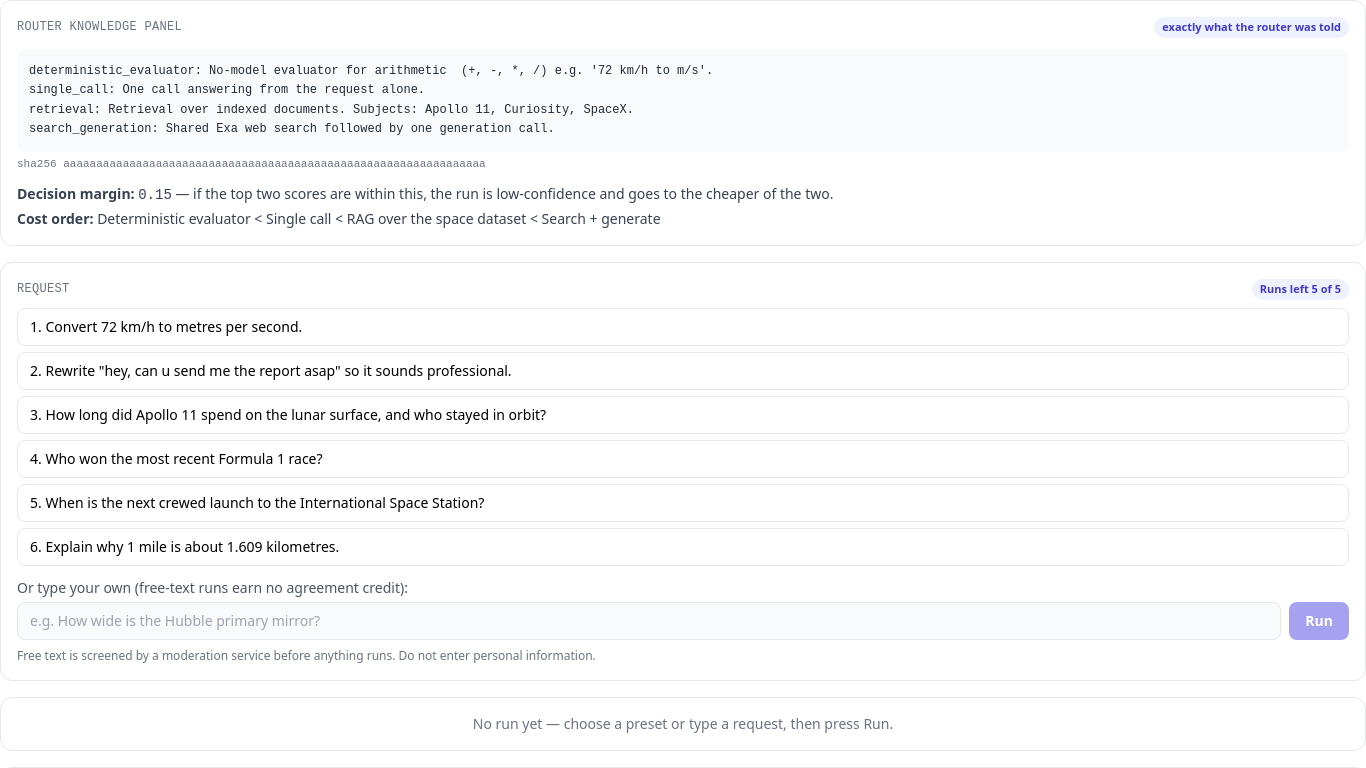
a routed preset run › shows the decision card with all four scores and the agreement
Click the button "next crewed launch": (265, 502) left=17, top=484, right=1349, bottom=522
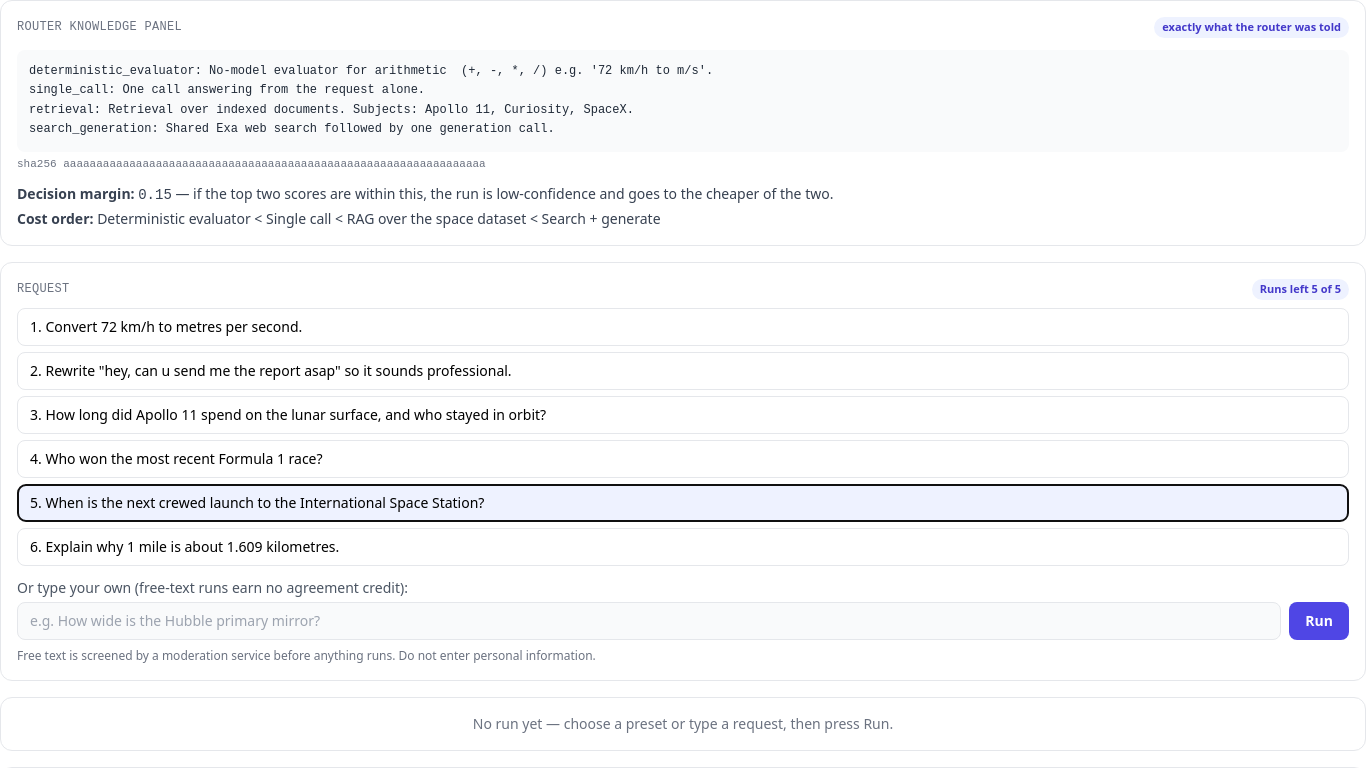
Click the button "Run": (1319, 620) left=1289, top=602, right=1349, bottom=640
(page scrolled)
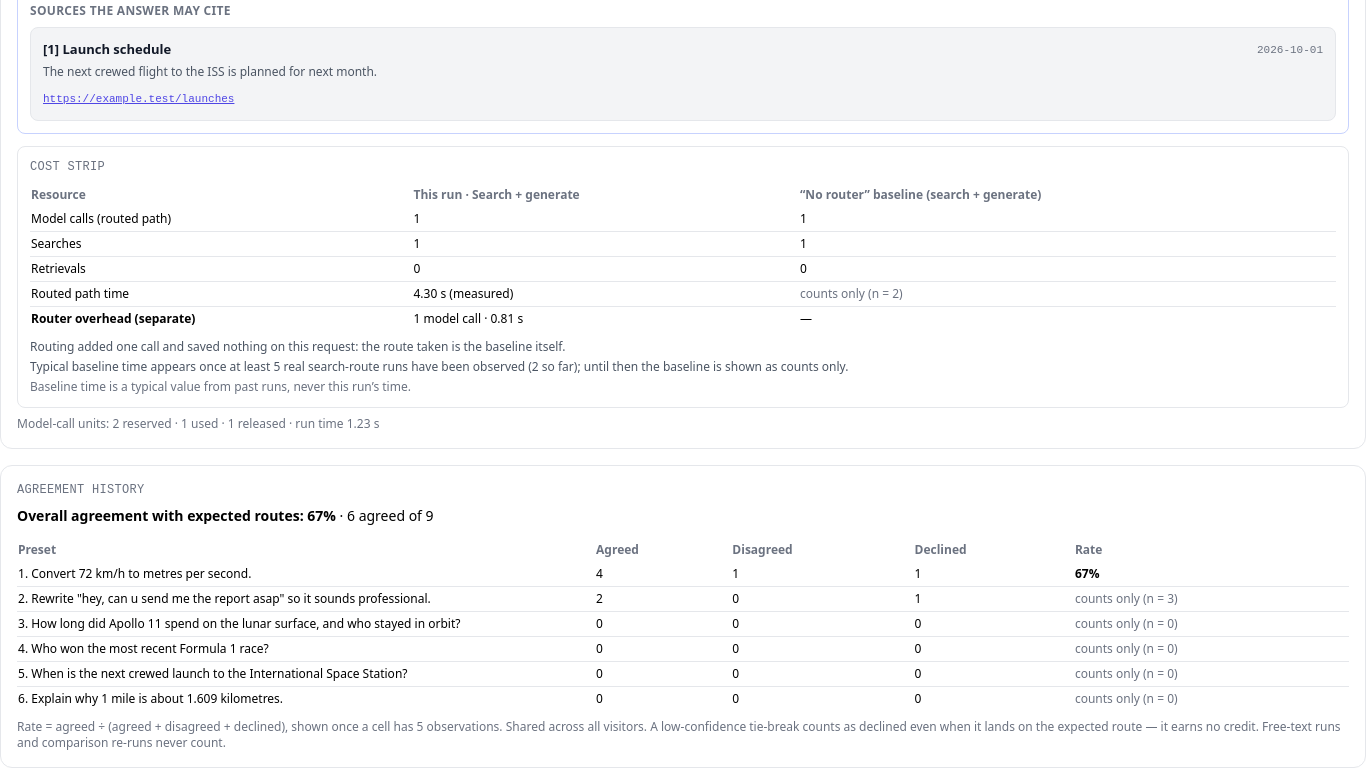
Expected: the text with test id "units" shows "2 reserved · 1 used · 1 released", left=17, top=415, right=379, bottom=432
Expected: the text with test id "units" shows "run time 1.23 s", left=17, top=415, right=379, bottom=432
